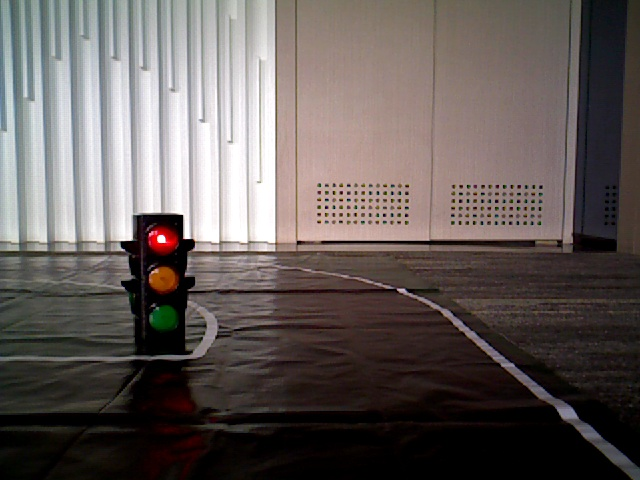red: (135, 221, 181, 333)
